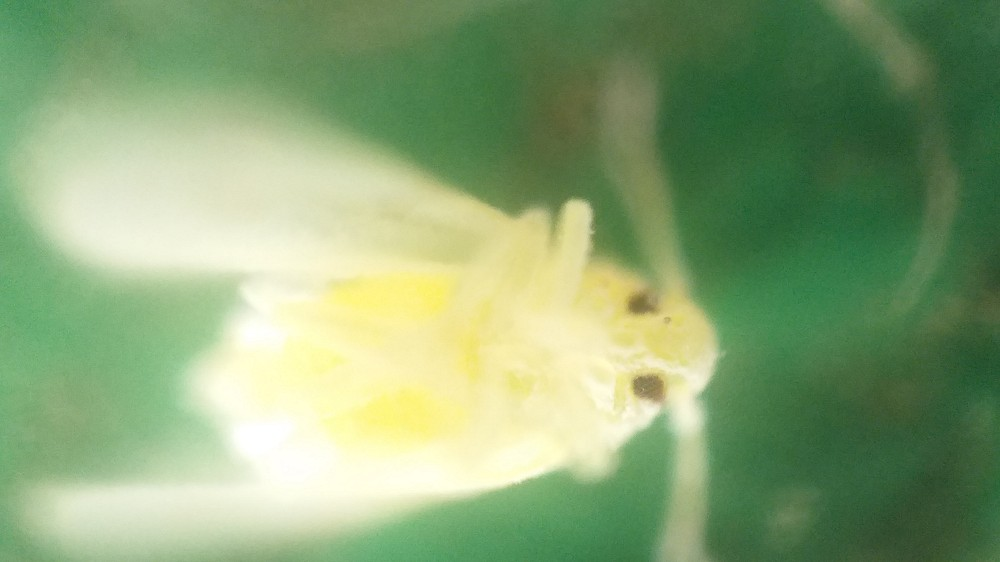Mosca Blanca: (29, 44, 777, 562)
